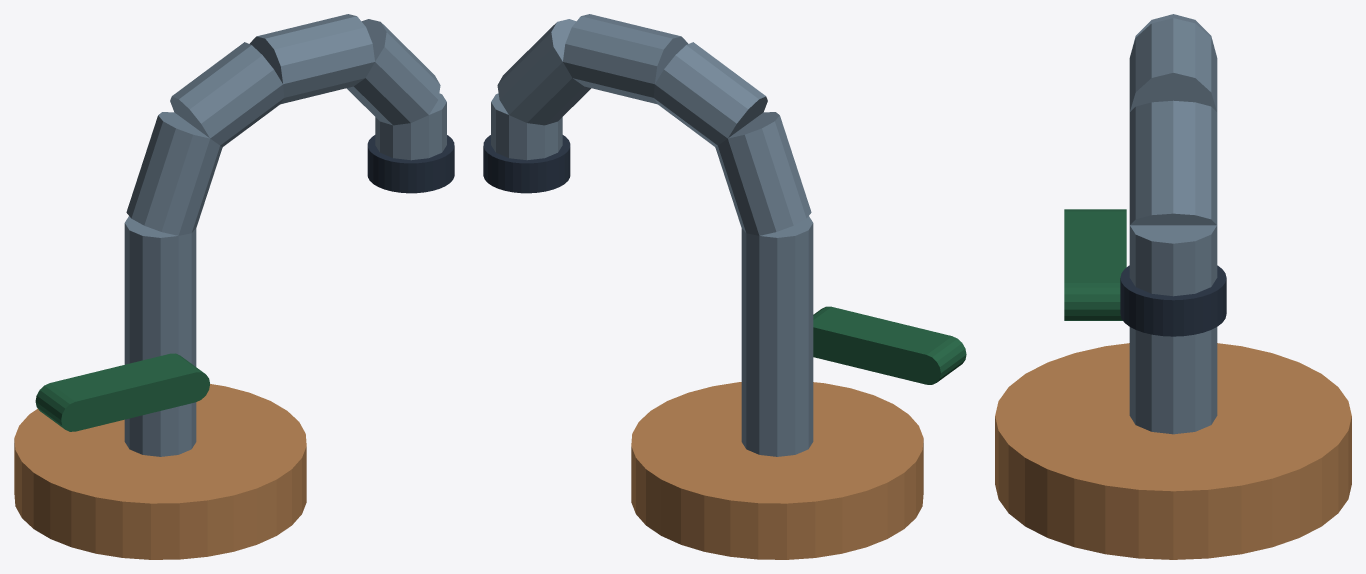
File: faucet.glb
The picture shows the model from 3 angles, left to right: view 1: azimuth 30°, elevation 25°; view 2: azimuth 150°, elevation 25°; view 3: azimuth 270°, elevation 25°; orthographic projection. The views are drawn at different scales.
Parts seen in each view (by area): view 1: base, pipe0, lever, pipe1, pipe3, pipe2, pipe4, outlet, pipe5; view 2: base, pipe0, lever, pipe1, pipe3, pipe2, pipe4, outlet, pipe5; view 3: base, pipe4, pipe0, pipe3, lever, pipe5, outlet.
Boxes of the visible parts, x1,y1,x2,y2 form: base: (14,384,306,559); pipe0: (124,216,196,456); lever: (35,353,209,431); pipe1: (126,112,222,235); pipe3: (249,14,374,104); pipe2: (170,42,284,146); pipe4: (347,19,440,125); outlet: (367,135,454,193); pipe5: (375,93,446,160); base: (631,382,923,559); pipe0: (741,216,813,456); lever: (813,306,966,384); pipe1: (715,112,811,235); pipe3: (563,14,688,104); pipe2: (653,42,767,146); pipe4: (497,19,590,125); outlet: (483,135,570,193); pipe5: (491,93,562,160); base: (995,343,1351,559); pipe4: (1129,100,1217,225); pipe0: (1129,327,1217,434); pipe3: (1129,18,1217,111); lever: (1064,209,1126,320); pipe5: (1129,225,1217,296); outlet: (1120,265,1226,336).
Bounding box in the file's own units: 1.36 × 1.31 × 0.8.
